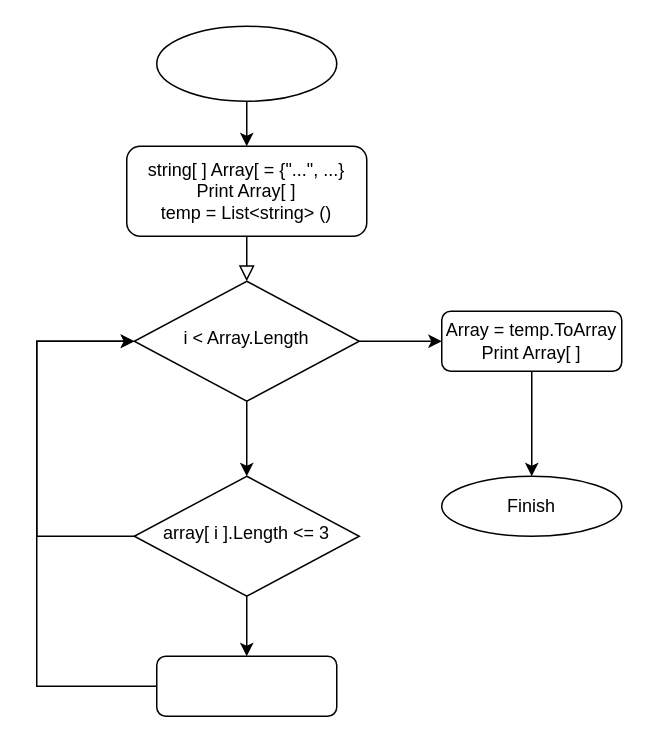
Image size: 648x743. Some labels were removed from this diagram. Each missing label, with the centre of its shape:
"Start" belongs at (246,63).
"temp.Add(Array[ i ])" belongs at (246,685).
